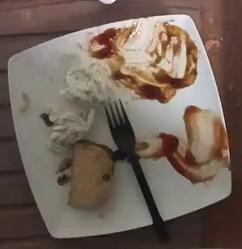pork: (68, 141, 114, 208)
